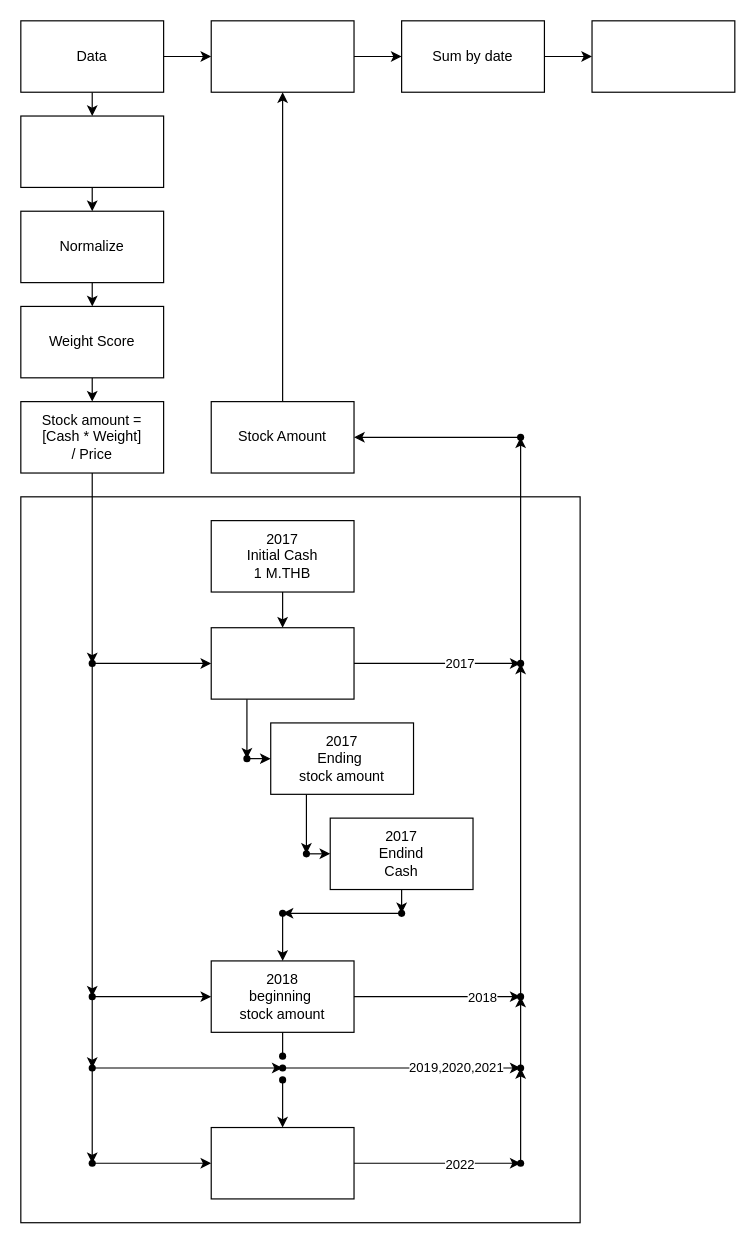
This 756x1244 diagram has some shape labels left out. The centre of each missing label's shape, as x and y in pixels:
"2017 beginning stock amount" belongs at point 282,663.
"End of 2022 stock amount" belongs at point 282,1162.
"Factor Data" belongs at point 92,151.
"Index" belongs at point 663,56.
"Stock Amount x Close Price" belongs at point 282,56.
